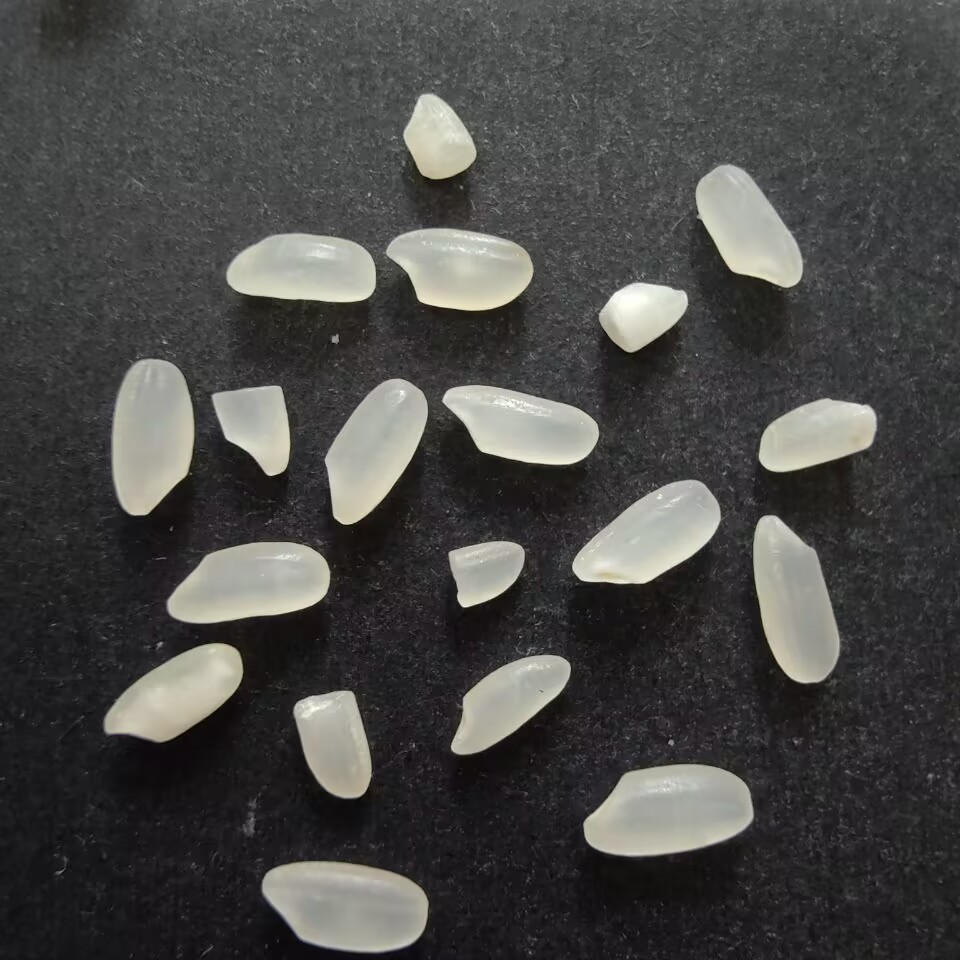broken: (290, 683, 375, 805), (754, 394, 880, 475), (208, 381, 296, 483), (399, 89, 478, 188), (592, 279, 692, 357), (443, 535, 527, 610)
rice: (577, 759, 756, 859), (568, 477, 723, 589), (255, 858, 435, 953), (321, 375, 431, 527), (752, 510, 845, 689), (100, 639, 247, 746), (161, 540, 334, 630), (691, 160, 806, 291), (108, 354, 198, 518), (445, 651, 578, 758), (439, 384, 603, 470), (380, 225, 534, 314), (222, 229, 380, 308)
